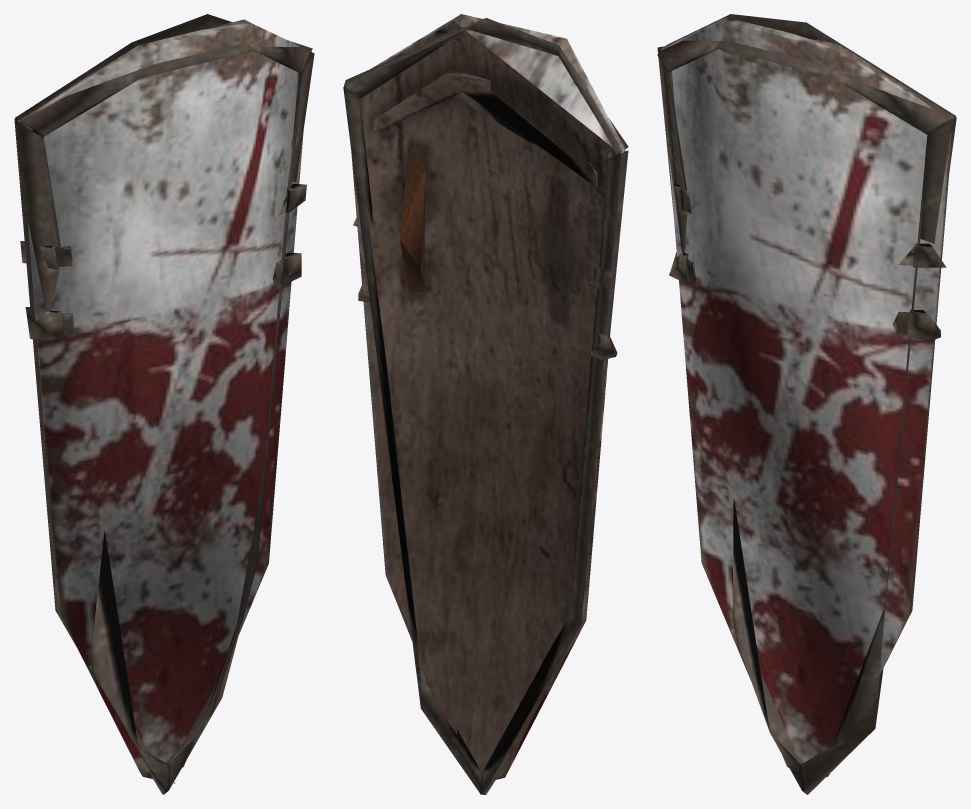
File: bouclier.glb
3 views of the same model, side by side, from view 1: azimuth 30°, elevation 25°; view 2: azimuth 150°, elevation 25°; view 3: azimuth 330°, elevation 25° (orthographic). The views are drawn at different scales.
Visible parts, largest first — view 1: kite_shield_body, kite_shield_metal_trim; view 2: kite_shield_body, kite_shield_metal_trim; view 3: kite_shield_body, kite_shield_metal_trim.
Part boxes in pixels (left/top/right/bottom): kite_shield_body: left=17, top=19, right=303, bottom=779; kite_shield_metal_trim: left=14, top=14, right=314, bottom=794; kite_shield_body: left=351, top=14, right=625, bottom=780; kite_shield_metal_trim: left=343, top=18, right=628, bottom=794; kite_shield_body: left=660, top=17, right=951, bottom=777; kite_shield_metal_trim: left=657, top=14, right=956, bottom=794.
Bounding box in the file's own units: 0.5425 × 1.39 × 0.128.
2 materials, 2 textured.
